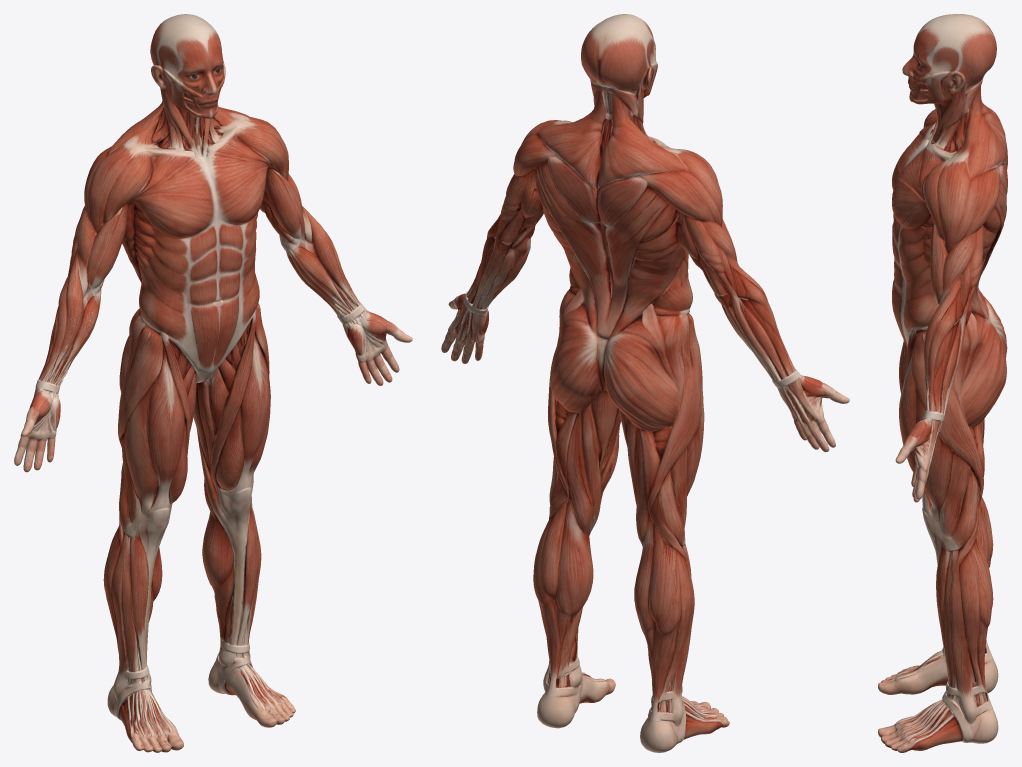
File: muscles.glb
The picture shows the model from 3 angles, left to right: view 1: azimuth 30°, elevation 25°; view 2: azimuth 150°, elevation 25°; view 3: azimuth 270°, elevation 25°; orthographic projection. The views are drawn at different scales.
Parts seen in each view (by area): view 1: human-muscles; view 2: human-muscles; view 3: human-muscles.
Boxes of the visible parts, x1=… form: human-muscles: x1=14, y1=14, x2=412, y2=752; human-muscles: x1=441, y1=14, x2=849, y2=752; human-muscles: x1=878, y1=14, x2=1007, y2=752.
Bounding box in the file's own units: 1.06 × 1.8 × 0.3027.
1 material, 1 textured.
